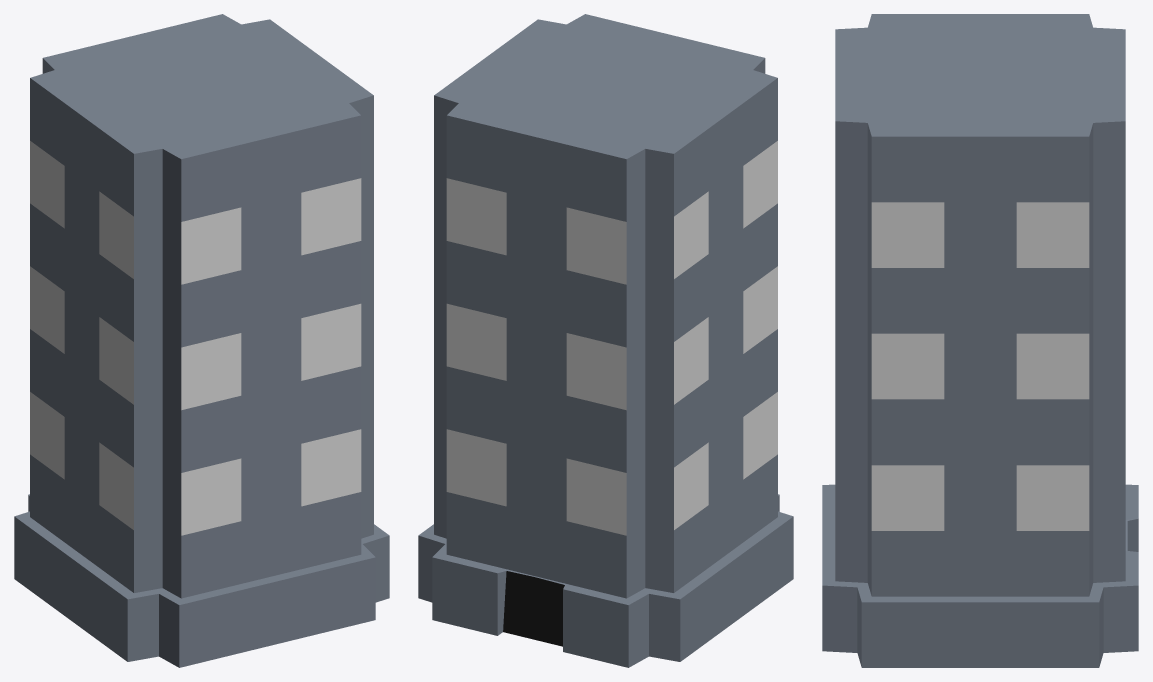
The model's file is building-type-a.glb.
3 views of the same model, side by side, from view 1: azimuth 30°, elevation 25°; view 2: azimuth 150°, elevation 25°; view 3: azimuth 270°, elevation 25° (orthographic). The views are drawn at different scales.
Visible parts, largest first — view 1: Cube-col; view 2: Cube-col; view 3: Cube-col.
Part boxes in pixels (x1=…): Cube-col: x1=14, y1=14, x2=389, y2=667; Cube-col: x1=418, y1=14, x2=793, y2=667; Cube-col: x1=822, y1=14, x2=1138, y2=667.
Size of the model in its own units: 2.18 by 4 by 2.18.
